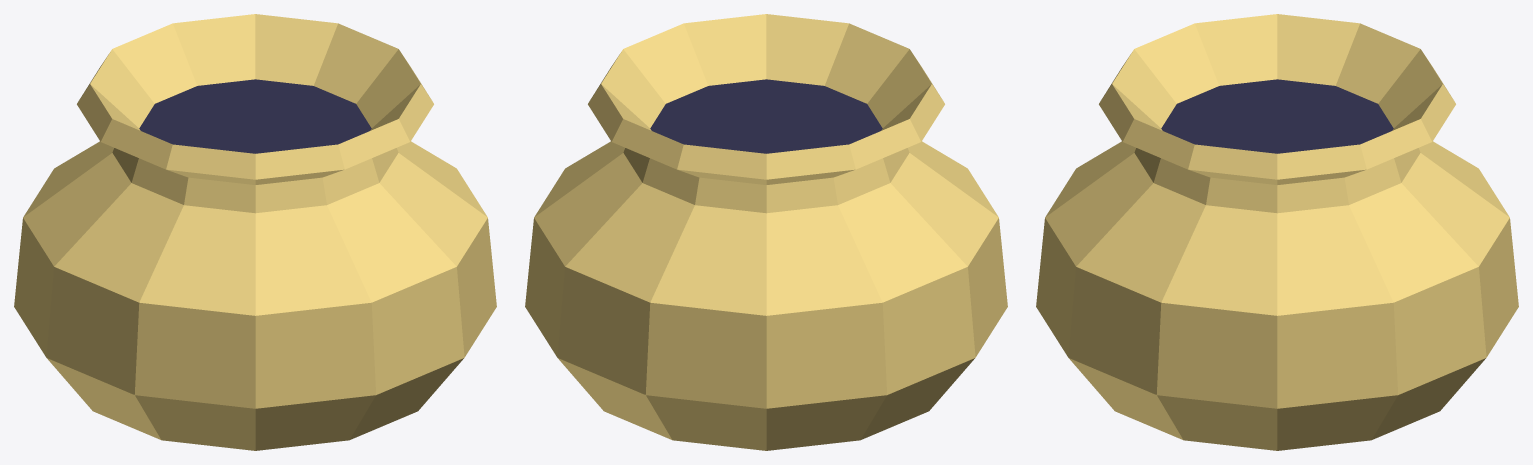
Rendered from inkwell_celestia.glb.
3 renders of one model, left to right at view 1: azimuth 30°, elevation 25°; view 2: azimuth 150°, elevation 25°; view 3: azimuth 270°, elevation 25°, orthographic.
Visible parts, largest first — view 1: celestia_inkwell; view 2: celestia_inkwell; view 3: celestia_inkwell.
Boxes of the visible parts, bbox=[...] form: celestia_inkwell: bbox=[14, 14, 496, 450]; celestia_inkwell: bbox=[525, 14, 1007, 450]; celestia_inkwell: bbox=[1036, 14, 1518, 450].
Size of the model in its own units: 0.0756 by 0.0497 by 0.0756.
